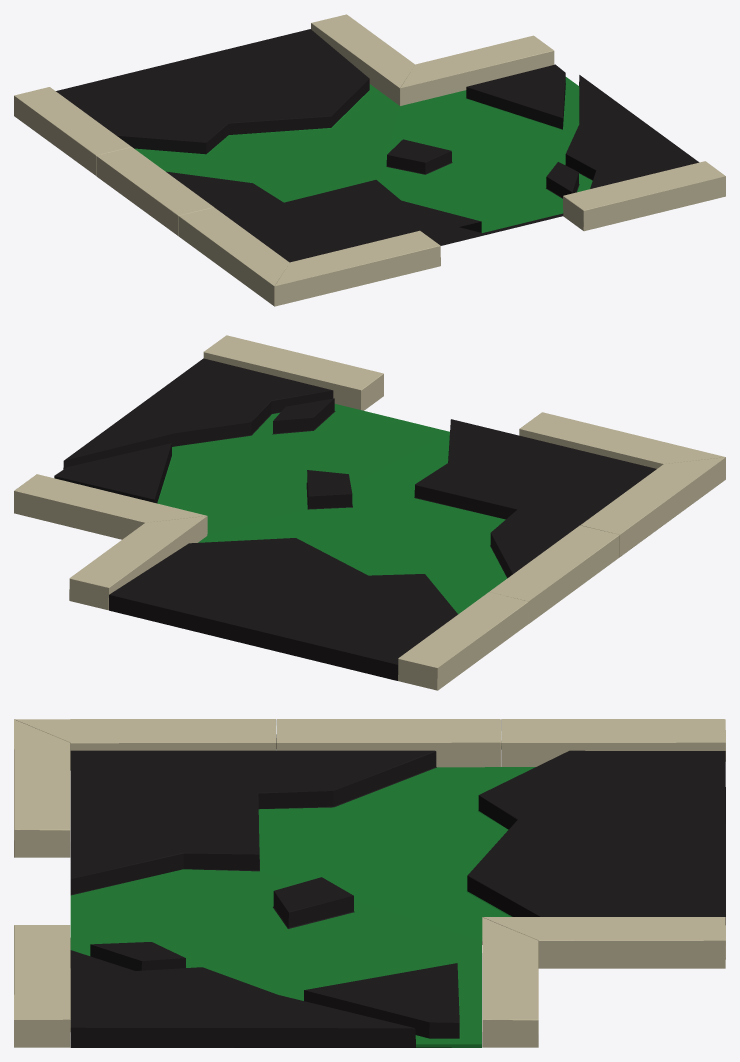
The model's file is brokenroadcorner.fbx.
The picture shows the model from 3 angles, top to bottom: view 1: azimuth 30°, elevation 25°; view 2: azimuth 150°, elevation 25°; view 3: azimuth 270°, elevation 25°; orthographic projection. The views are drawn at different scales.
Parts seen in each view (by area): view 1: yolköşe2.002; view 2: yolköşe2.002; view 3: yolköşe2.002.
Part boxes in pixels (x1,y1,x2,y2): yolköşe2.002: (14, 14, 725, 306); yolköşe2.002: (14, 335, 725, 690); yolköşe2.002: (14, 719, 725, 1047).
Size of the model in its own units: 158 by 6.97 by 158.
